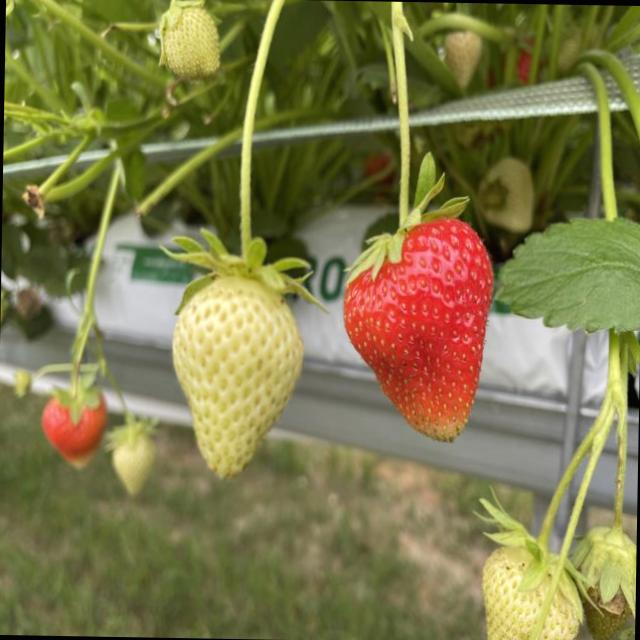stem: (164, 0, 319, 312), (349, 1, 468, 283)
strawberryNR: (172, 275, 303, 477)
strawberryR: (344, 217, 493, 441), (41, 397, 107, 466)
